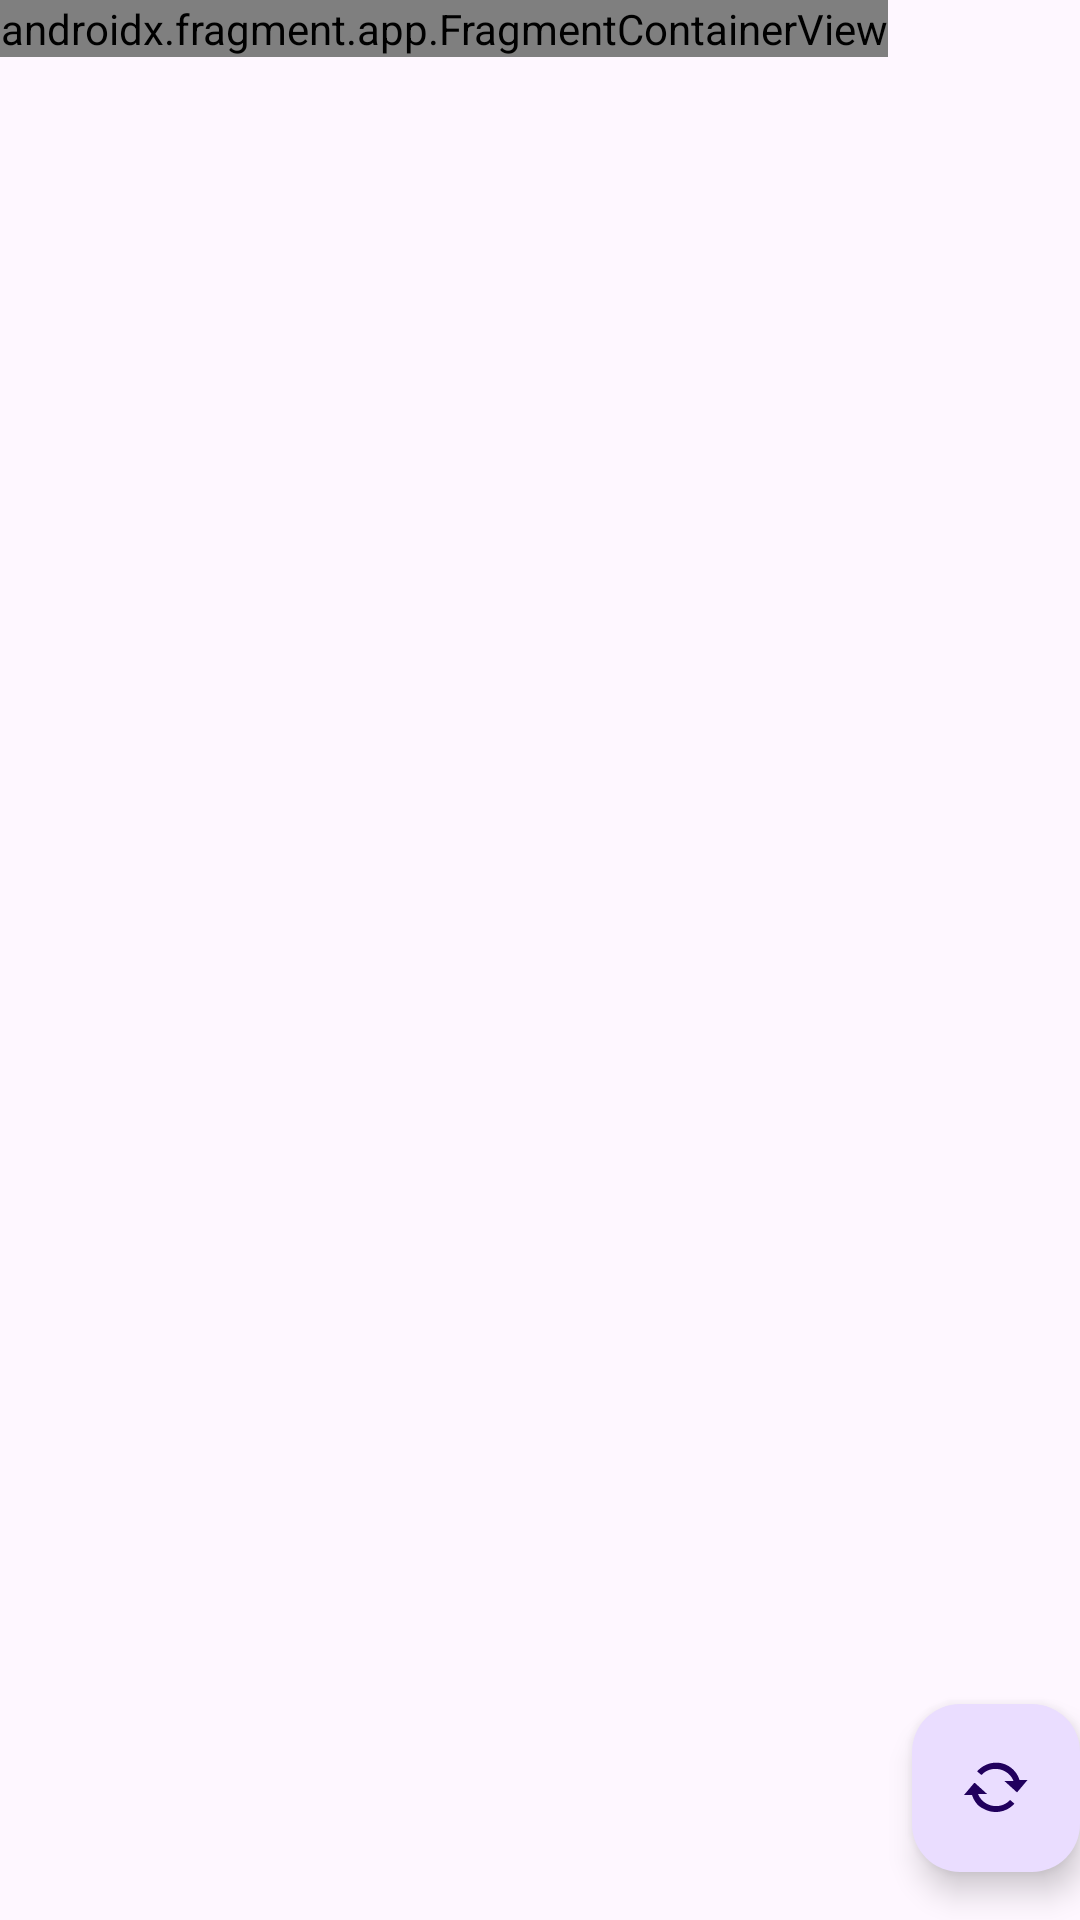

Icon click points for this 1080px×1920px phone screenshot, format (x=x, y=y):
Reload: (x=996, y=1788)
